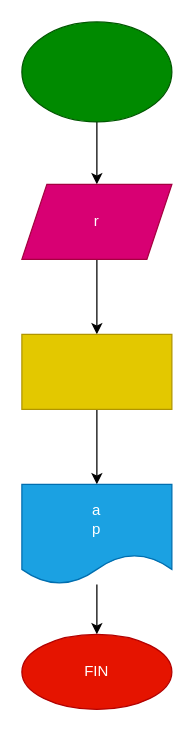
Some shapes in this 194 by 731 pixel diagram are drawn without their labels. The centre of each missing label's shape, as x and y in pixels:
"a = 𝜋r 2 p = 2𝜋r" goes at (96,371).
"INICIO" goes at (96,71).
